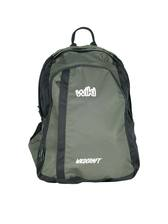bag: (25, 27, 145, 188)
